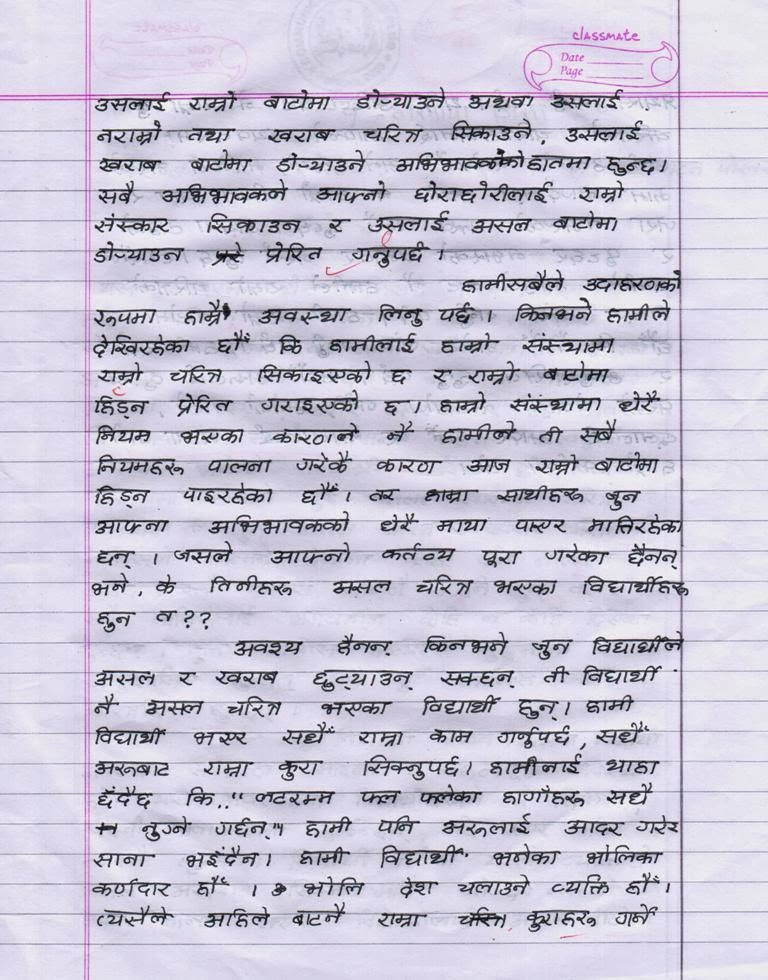text: (206, 510, 350, 535), (412, 180, 553, 205), (160, 179, 289, 204), (395, 149, 528, 173), (579, 573, 689, 600), (89, 332, 195, 360), (360, 751, 462, 780), (254, 361, 376, 385), (312, 666, 416, 694), (257, 389, 365, 415), (589, 629, 689, 657), (486, 753, 586, 780), (585, 513, 684, 540), (521, 332, 617, 359), (179, 480, 274, 507), (584, 268, 682, 294), (458, 269, 566, 292), (328, 330, 420, 357), (203, 212, 306, 236), (91, 241, 186, 267), (509, 391, 603, 417), (91, 452, 185, 478), (422, 630, 512, 657), (441, 812, 534, 838), (376, 842, 465, 869), (356, 86, 448, 112), (272, 420, 362, 446), (495, 483, 585, 509), (204, 574, 296, 599), (502, 783, 587, 810), (275, 150, 366, 175), (350, 240, 431, 268), (447, 116, 535, 141), (510, 298, 597, 323), (367, 209, 450, 235), (418, 692, 500, 718), (578, 663, 665, 687), (538, 360, 615, 387), (268, 542, 354, 566), (438, 420, 518, 445), (184, 843, 260, 869), (453, 872, 532, 897), (524, 906, 597, 933), (91, 756, 173, 780), (92, 904, 174, 928), (382, 539, 457, 565), (258, 305, 352, 325), (565, 118, 645, 141), (254, 786, 337, 808), (495, 725, 573, 748), (171, 539, 235, 567), (550, 86, 624, 110), (89, 724, 166, 747), (203, 904, 271, 930), (87, 483, 152, 510), (542, 542, 612, 567), (491, 844, 561, 869), (313, 180, 389, 203), (436, 668, 519, 689), (89, 877, 172, 898), (593, 451, 660, 477), (93, 91, 172, 113), (94, 121, 165, 145), (189, 148, 254, 174), (262, 88, 332, 112), (552, 210, 619, 235), (92, 305, 159, 330), (605, 299, 672, 324), (549, 872, 613, 898), (586, 844, 665, 865), (415, 571, 476, 598), (93, 783, 154, 810), (93, 213, 171, 234), (303, 874, 366, 900), (418, 782, 483, 807), (93, 391, 151, 419), (626, 541, 679, 571), (178, 424, 247, 447), (316, 698, 395, 718), (92, 517, 170, 537), (176, 391, 233, 418), (226, 694, 283, 721), (266, 124, 338, 145), (372, 300, 424, 329), (278, 721, 336, 747), (214, 816, 274, 841), (94, 154, 165, 175), (233, 638, 304, 659), (335, 633, 394, 658), (466, 92, 536, 113), (490, 576, 560, 597), (265, 240, 323, 265), (92, 422, 154, 445), (291, 903, 348, 928), (467, 360, 521, 386), (603, 152, 659, 177), (374, 455, 444, 475), (360, 122, 423, 144), (562, 817, 625, 839), (438, 333, 498, 356), (139, 815, 192, 841), (293, 451, 355, 473), (592, 722, 651, 745), (140, 698, 207, 718), (89, 848, 156, 868), (204, 457, 274, 476), (274, 756, 325, 782), (92, 667, 155, 688), (469, 216, 535, 236), (191, 727, 251, 749), (168, 363, 225, 386), (513, 512, 567, 536), (212, 668, 280, 687), (329, 577, 393, 597), (578, 180, 625, 207), (525, 153, 591, 172), (584, 692, 636, 716), (97, 360, 144, 386), (616, 388, 661, 415), (515, 697, 561, 723), (297, 845, 349, 868), (602, 756, 664, 775), (180, 299, 222, 327), (351, 727, 407, 748), (438, 391, 489, 414), (424, 486, 482, 506), (579, 418, 619, 446), (397, 875, 440, 901), (187, 91, 240, 112), (606, 782, 652, 806), (213, 327, 251, 356), (302, 817, 352, 839), (612, 902, 656, 927), (298, 480, 340, 506), (433, 516, 490, 535), (534, 453, 581, 476), (479, 546, 524, 570), (464, 455, 515, 476), (375, 910, 428, 930), (94, 609, 138, 633), (187, 123, 237, 144), (623, 872, 661, 899), (530, 635, 571, 660), (97, 180, 136, 206), (603, 485, 642, 511), (635, 815, 681, 837), (200, 759, 253, 778), (436, 300, 473, 326), (91, 572, 129, 597), (93, 547, 136, 569), (426, 726, 475, 745), (374, 815, 419, 835), (355, 788, 402, 807), (183, 782, 216, 809), (194, 874, 230, 898), (377, 512, 418, 533), (381, 420, 415, 444), (275, 332, 306, 357), (365, 485, 402, 504), (380, 397, 410, 417), (542, 665, 571, 685), (153, 574, 180, 595), (93, 694, 118, 716), (386, 366, 413, 386), (536, 425, 563, 445), (326, 215, 351, 235), (431, 363, 452, 386), (195, 607, 215, 631), (152, 604, 175, 624), (176, 668, 199, 688), (180, 608, 198, 629)
